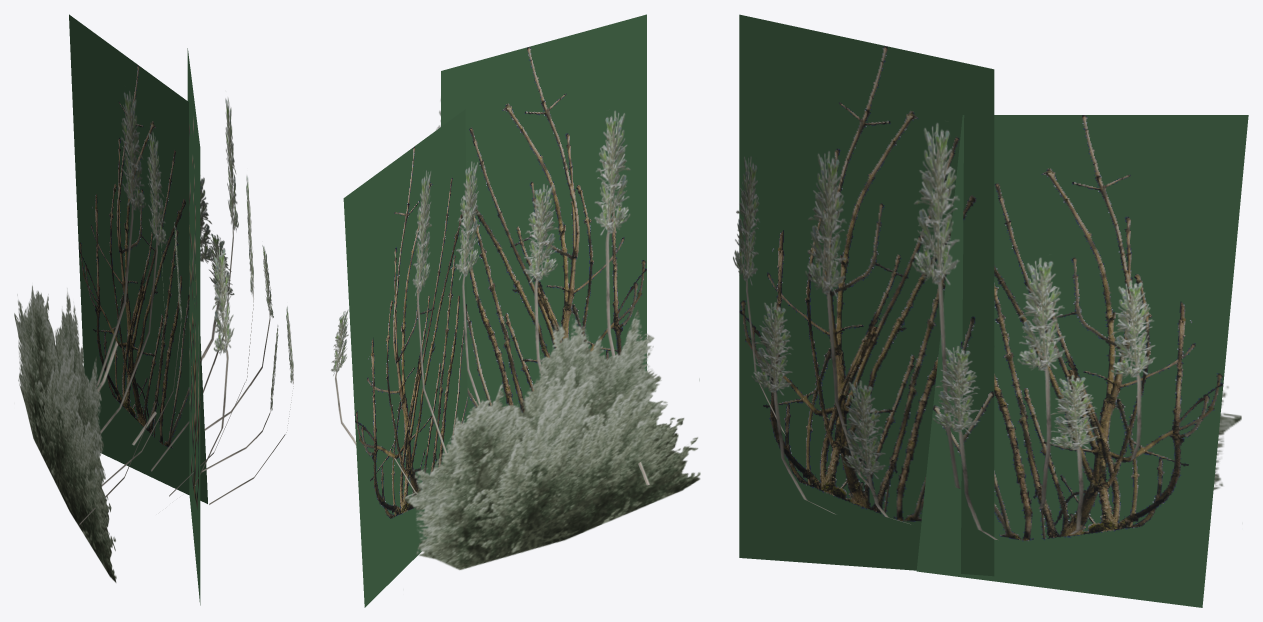
File: stklib_sagebrush_a_main.glb
3 views of the same model, side by side, from view 1: azimuth 30°, elevation 25°; view 2: azimuth 150°, elevation 25°; view 3: azimuth 270°, elevation 25° (orthographic). The views are drawn at different scales.
Visible parts, largest first — view 1: stktex_branches_diff_a.png__, stktex_bushSageBrush_diff_a.png__, stktex_flowerSageBrush_diff_a.png__; view 2: stktex_branches_diff_a.png__, stktex_bushSageBrush_diff_a.png__, stktex_flowerSageBrush_diff_a.png__; view 3: stktex_branches_diff_a.png__, stktex_flowerSageBrush_diff_a.png__.
Part boxes in pixels (box(x1,y1,x2,y2)): stktex_branches_diff_a.png__: box(69, 14, 207, 605); stktex_bushSageBrush_diff_a.png__: box(14, 285, 116, 582); stktex_flowerSageBrush_diff_a.png__: box(79, 90, 293, 524); stktex_branches_diff_a.png__: box(343, 14, 646, 607); stktex_bushSageBrush_diff_a.png__: box(404, 309, 700, 569); stktex_flowerSageBrush_diff_a.png__: box(331, 99, 649, 493); stktex_branches_diff_a.png__: box(739, 14, 1248, 607); stktex_flowerSageBrush_diff_a.png__: box(733, 121, 1155, 540).
Bounding box in the file's own units: 2.36 × 4.21 × 3.63.
3 materials, 3 textured.
